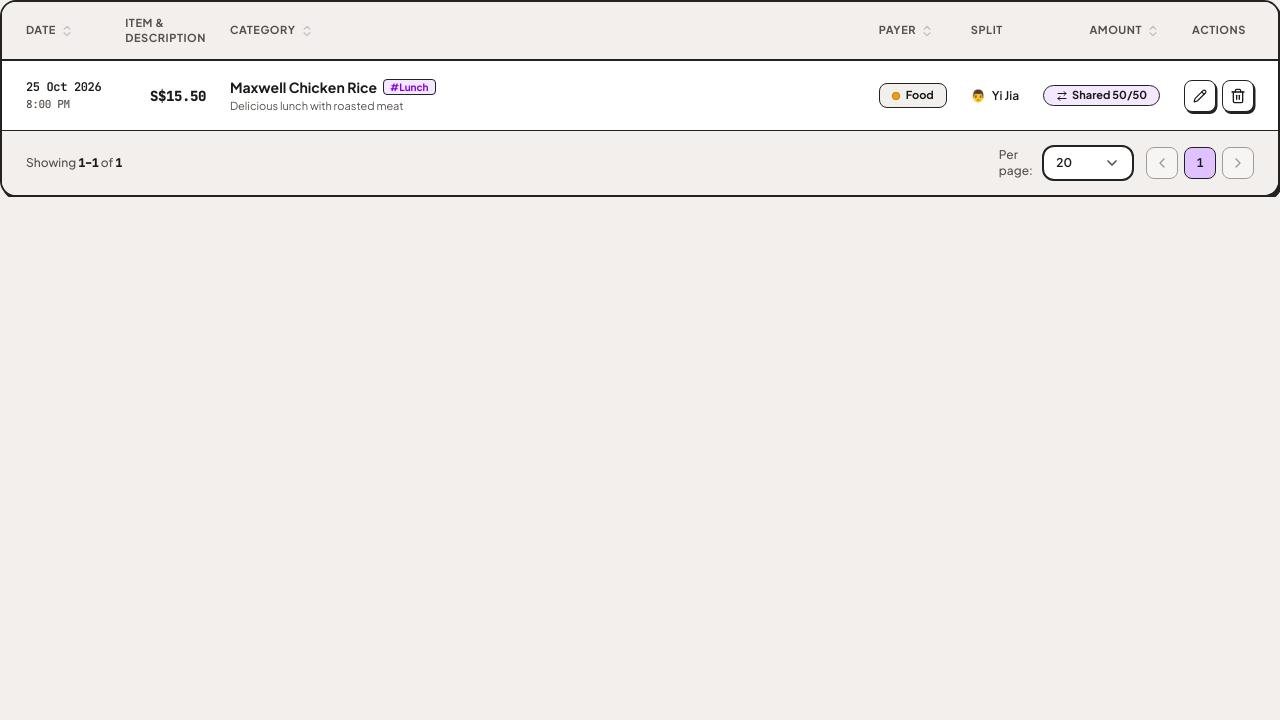
Ledger Power Tools, Fast Log & Bulk Log › ExpenseListTable Sorting & Pagination › opens EditExpenseModal when clicking edit button
Click the button named "Edit Maxwell Chicken Rice": (1200, 96) [1184,80,1216,112]
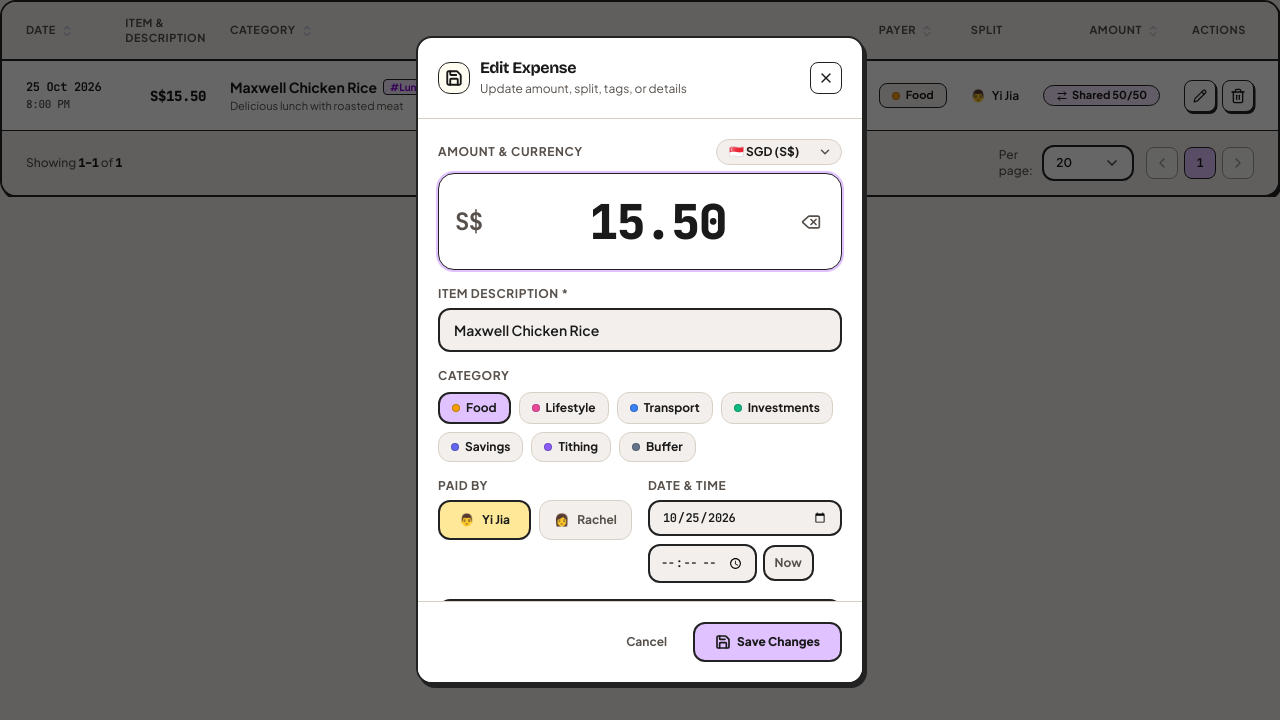
Now the heading "Edit Expense" is shown, box [480,58,576,77]
